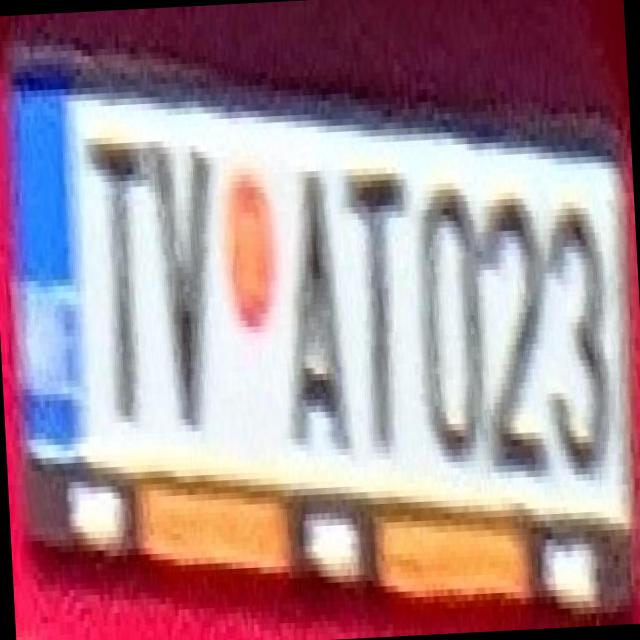0: (396, 162, 494, 464)
2: (469, 178, 562, 480)
3: (531, 188, 624, 477)
A: (262, 144, 358, 459)
T: (77, 113, 232, 443), (331, 154, 424, 456)
